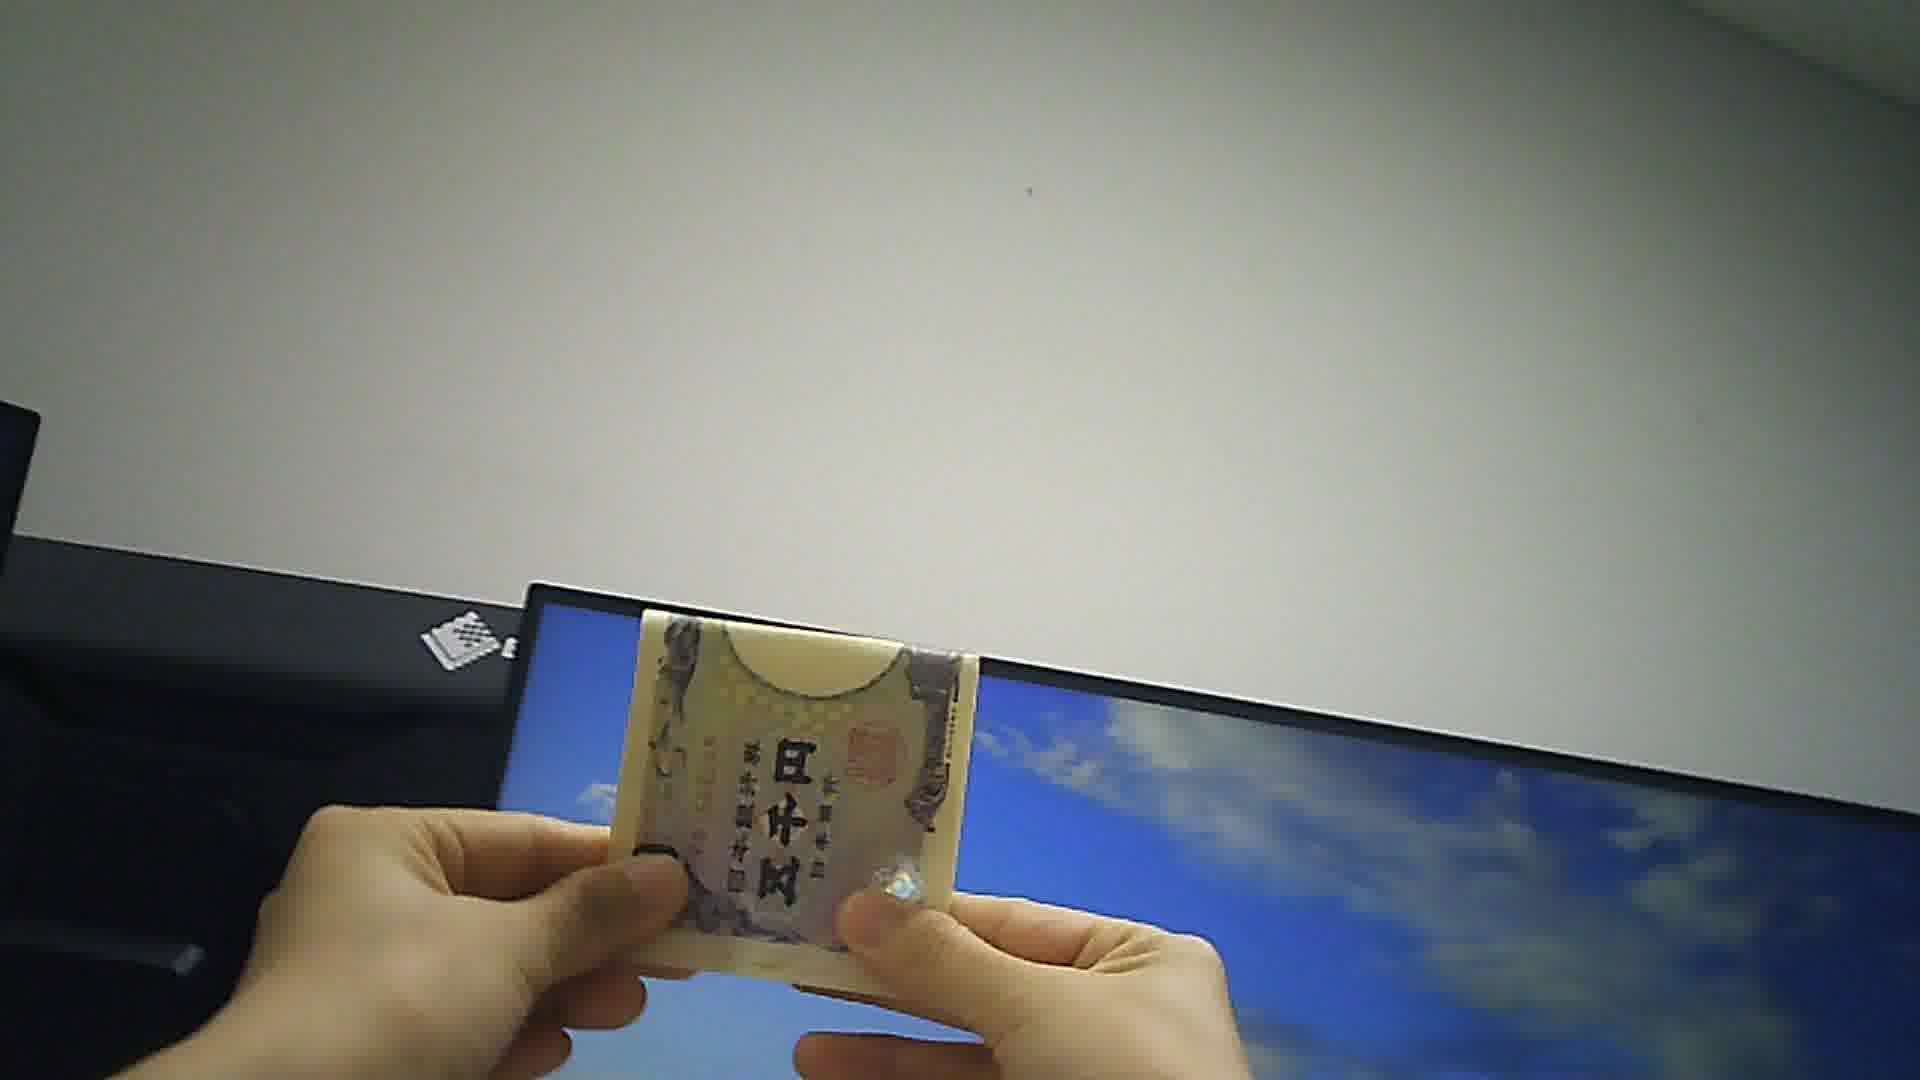5,000 Yen: (582, 593, 992, 992)
